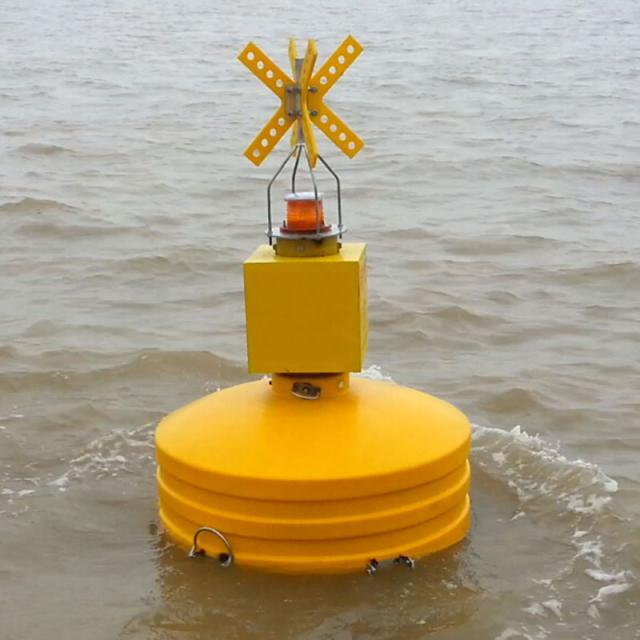2.5 sepcial mark: (118, 5, 515, 584)
